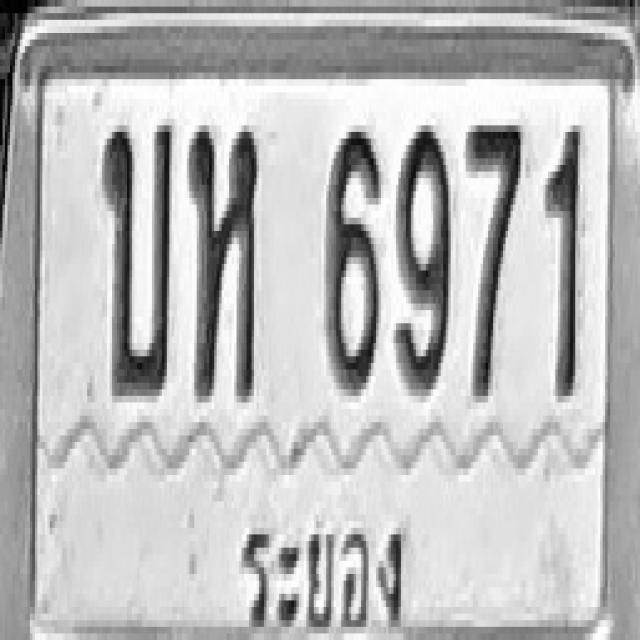1: (544, 122, 582, 393)
35BorBaiMai: (101, 119, 173, 396)
50HorHeep: (188, 122, 258, 399)
6: (325, 125, 380, 396)
7: (464, 119, 522, 402)
9: (394, 119, 450, 396)
Rayong: (235, 497, 413, 640)
